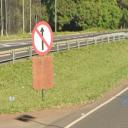NoSeguir: (32, 21, 53, 56)
